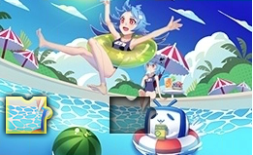gap: (110, 96, 157, 135)
